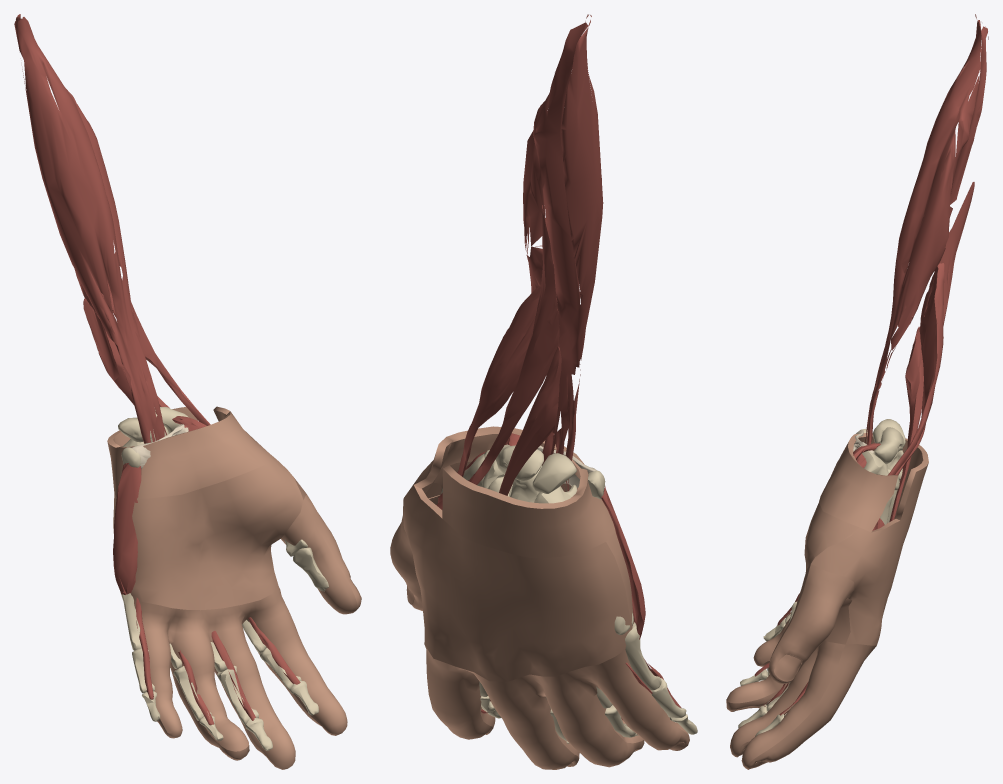
The model's file is hand.glb.
The picture shows the model from 3 angles, left to right: view 1: azimuth 30°, elevation 25°; view 2: azimuth 150°, elevation 25°; view 3: azimuth 270°, elevation 25°; orthographic projection. The views are drawn at different scales.
Visible parts, largest first — view 1: real-left-flexor-digitorum-profundus, real-skin-palm-l, real-skin-palmar-surfaces-of-digits-of-hand-l, real-skin-anterior-region-of-wrist-l, real-abductor-digiti-minimi-of-left-hand, real-skin-dorsal-surfaces-of-digits-of-hand-l, real-left-extensor-indicis, real-left-extensor-pollicis-brevis, real-skin-posterior-region-of-wrist-l, real-middle-phalanx-of-left-middle-finger, real-distal-phalanx-of-left-thumb, real-proximal-phalanx-of-left-little-finger (+1 smaller); view 2: real-skin-dorsum-of-hand-l, real-left-flexor-digitorum-profundus, real-skin-dorsal-surfaces-of-digits-of-hand-l, real-skin-posterior-region-of-wrist-l, real-left-extensor-pollicis-longus, real-left-extensor-pollicis-brevis, real-left-extensor-indicis, real-skin-anterior-region-of-wrist-l, real-abductor-digiti-minimi-of-left-hand, lunate-left, real-proximal-phalanx-of-left-little-finger, real-skin-palm-l (+4 smaller); view 3: real-left-flexor-digitorum-profundus, real-skin-dorsal-surfaces-of-digits-of-hand-l, real-skin-dorsum-of-hand-l, real-skin-palmar-surfaces-of-digits-of-hand-l, real-skin-anterior-region-of-wrist-l, real-left-extensor-pollicis-brevis, real-skin-posterior-region-of-wrist-l, real-skin-palm-l, real-left-extensor-indicis, real-left-extensor-pollicis-longus, scaphoid-left, real-skin-nail-plate-l.
Boxes of the visible parts, <box> form: real-left-flexor-digitorum-profundus: <box>14,14,300,725</box>; real-skin-palm-l: <box>115,455,303,610</box>; real-skin-palmar-surfaces-of-digits-of-hand-l: <box>134,501,357,768</box>; real-skin-anterior-region-of-wrist-l: <box>115,411,270,498</box>; real-abductor-digiti-minimi-of-left-hand: <box>113,463,141,594</box>; real-skin-dorsal-surfaces-of-digits-of-hand-l: <box>158,494,361,769</box>; real-left-extensor-indicis: <box>83,298,133,404</box>; real-left-extensor-pollicis-brevis: <box>107,280,210,425</box>; real-skin-posterior-region-of-wrist-l: <box>107,406,229,496</box>; real-middle-phalanx-of-left-middle-finger: <box>217,665,258,724</box>; real-distal-phalanx-of-left-thumb: <box>293,547,328,591</box>; real-proximal-phalanx-of-left-little-finger: <box>120,592,141,650</box>; real-skin-dorsum-of-hand-l: <box>403,476,631,681</box>; real-left-flexor-digitorum-profundus: <box>490,14,681,719</box>; real-skin-dorsal-surfaces-of-digits-of-hand-l: <box>390,495,689,769</box>; real-skin-posterior-region-of-wrist-l: <box>414,437,605,557</box>; real-left-extensor-pollicis-longus: <box>436,205,559,509</box>; real-left-extensor-pollicis-brevis: <box>438,284,541,502</box>; real-left-extensor-indicis: <box>481,346,561,713</box>; real-skin-anterior-region-of-wrist-l: <box>441,426,615,541</box>; real-abductor-digiti-minimi-of-left-hand: <box>601,486,645,639</box>; lunate-left: <box>532,453,576,493</box>; real-proximal-phalanx-of-left-little-finger: <box>625,622,661,690</box>; real-skin-palm-l: <box>434,461,634,628</box>; real-left-flexor-digitorum-profundus: <box>754,14,988,715</box>; real-skin-dorsal-surfaces-of-digits-of-hand-l: <box>726,564,876,769</box>; real-skin-dorsum-of-hand-l: <box>811,491,913,645</box>; real-skin-palmar-surfaces-of-digits-of-hand-l: <box>726,564,845,766</box>; real-skin-anterior-region-of-wrist-l: <box>819,433,879,526</box>; real-left-extensor-pollicis-brevis: <box>887,263,944,475</box>; real-skin-posterior-region-of-wrist-l: <box>859,438,928,532</box>; real-skin-palm-l: <box>804,503,858,644</box>; real-left-extensor-indicis: <box>889,326,923,521</box>; real-left-extensor-pollicis-longus: <box>895,182,974,475</box>; scaphoid-left: <box>874,427,903,463</box>; real-skin-nail-plate-l: <box>731,654,801,769</box>.
Bounding box in the file's own units: 0.1362 × 0.3764 × 0.1324.
